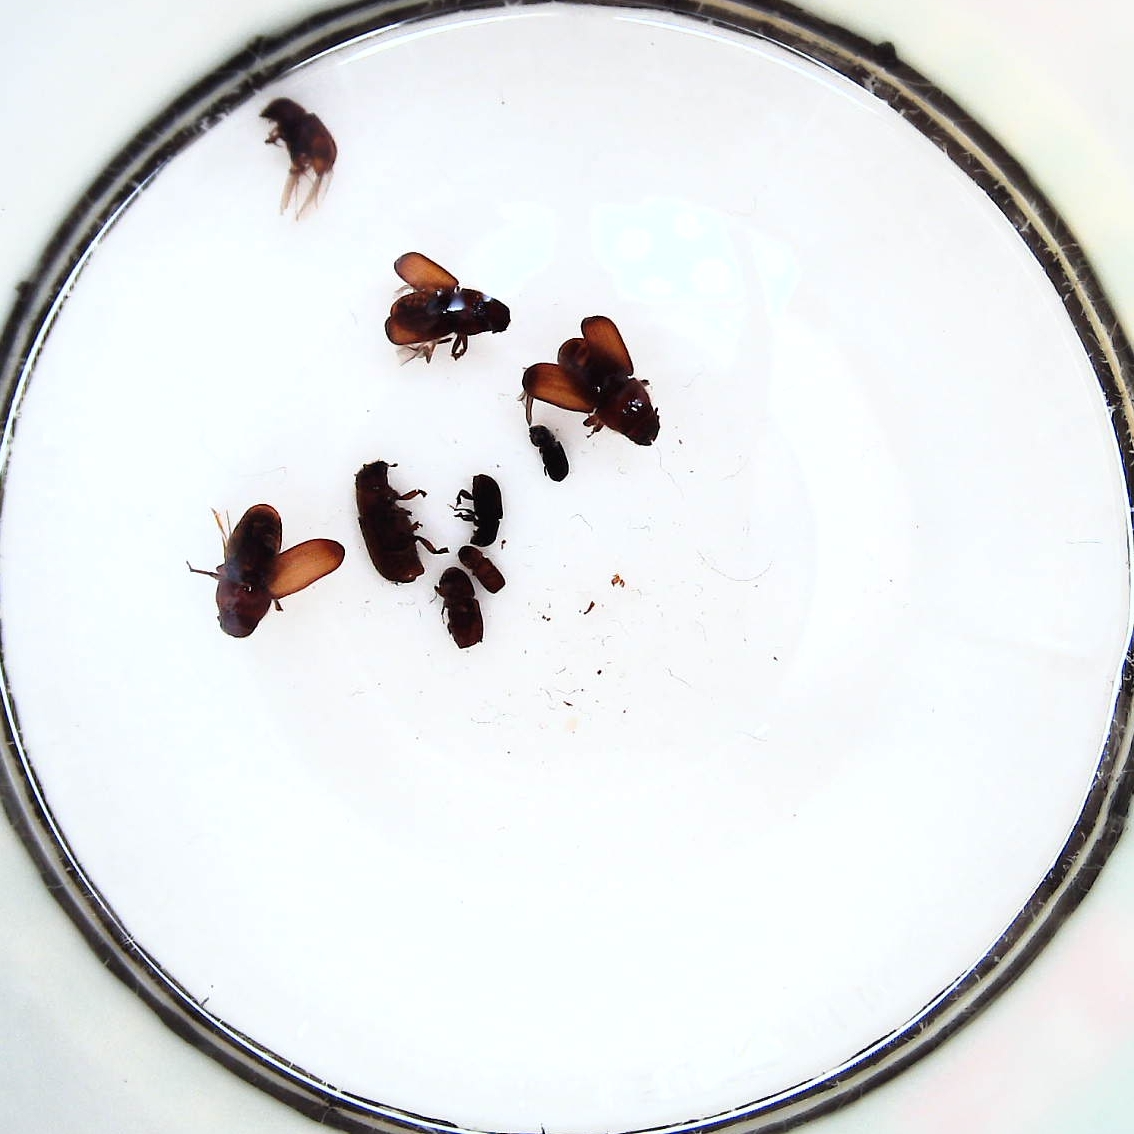Leconte: (192, 495, 347, 639), (524, 313, 668, 442), (384, 249, 515, 365), (352, 459, 448, 590), (260, 95, 337, 216)
Linnaeus: (432, 569, 486, 651)
acuminatus: (456, 542, 507, 593)
armandi: (455, 470, 509, 546)
coleoptera: (529, 423, 574, 480)
